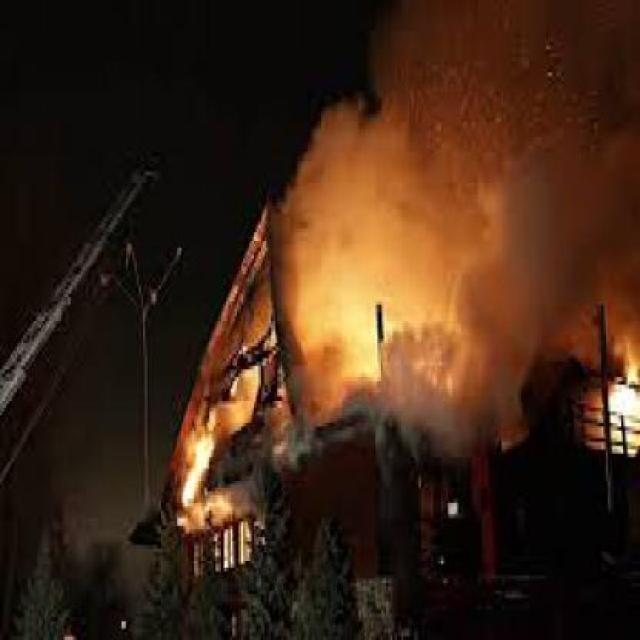Fire: (146, 195, 300, 584), (571, 318, 640, 444)
Smoke: (258, 0, 639, 435)
